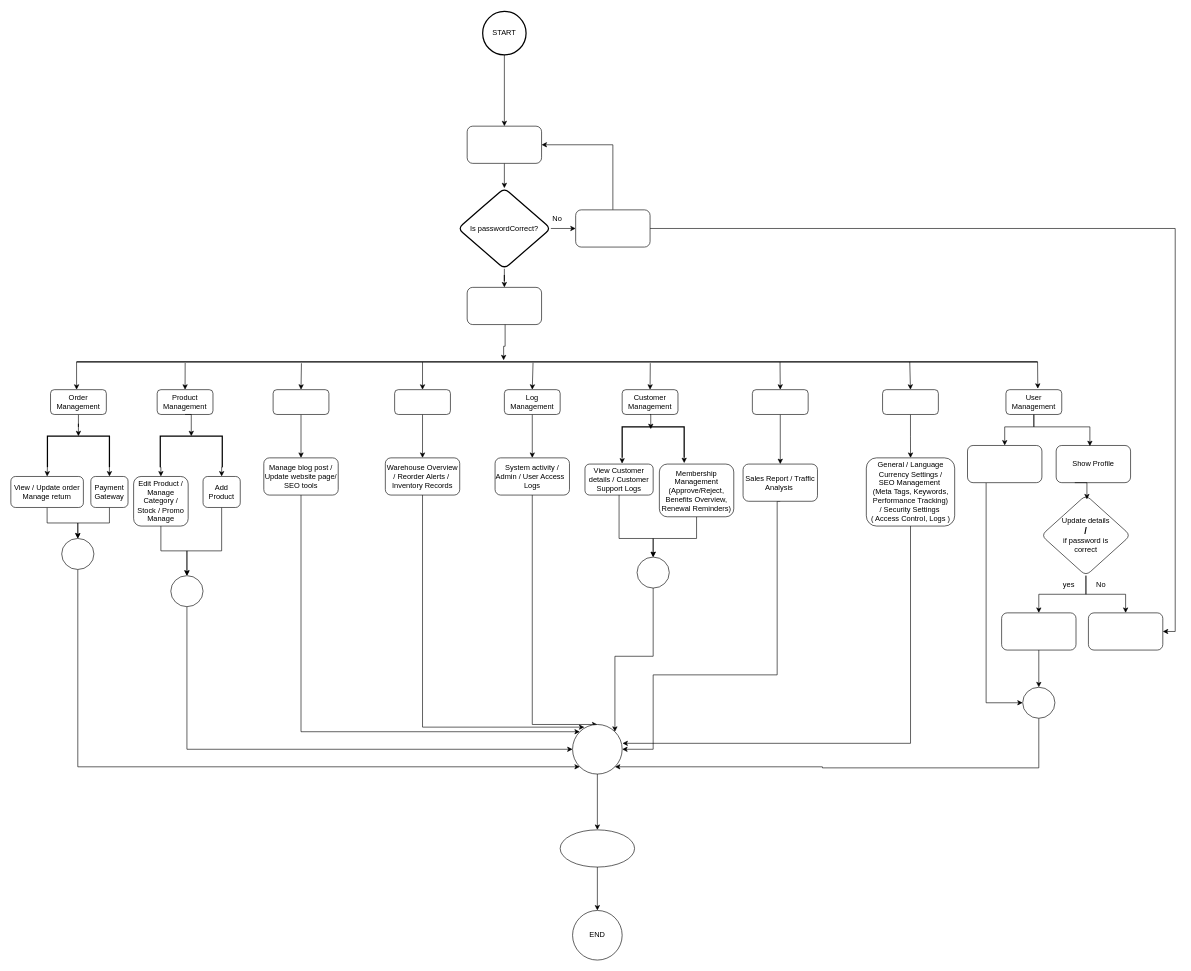
Image size: 1191x971. Some labels were removed from this diagram. Each missing label, with the box of its shape:
Admin Dashboard: (467, 287, 542, 325)
Admin User Accounts / Permission Roles: (967, 445, 1042, 483)
Content Management: (272, 389, 329, 414)
Forgot Password: (1088, 612, 1163, 650)
Inventory Management: (394, 389, 450, 414)
Login: (467, 126, 542, 163)
LOGOUT: (560, 829, 635, 867)
Reset Password: (575, 209, 650, 247)
Sales & Analytics report: (752, 389, 808, 414)
Site Configuration: (882, 389, 938, 414)
Update details: (1001, 612, 1076, 650)
